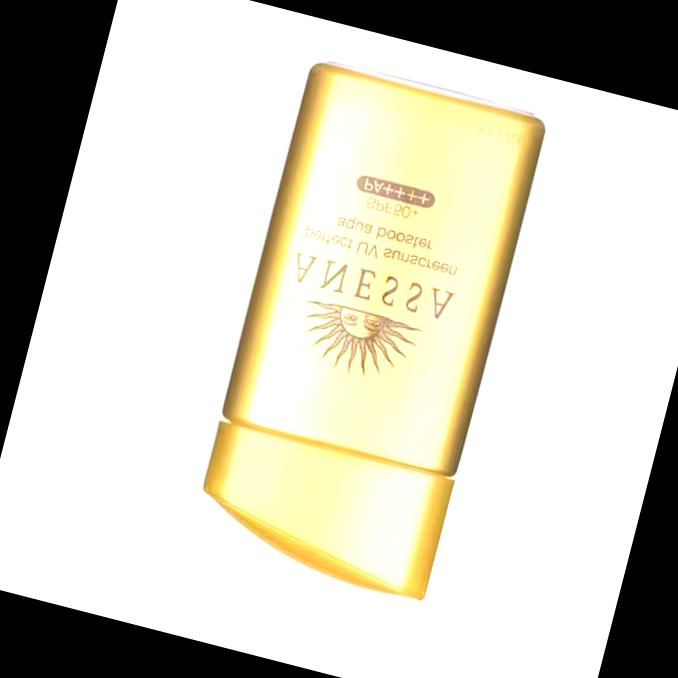cosmetic: (182, 62, 548, 604)
